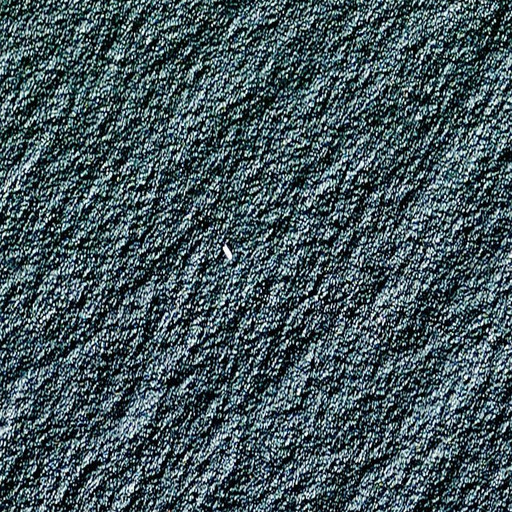ship: (222, 245, 235, 262)
